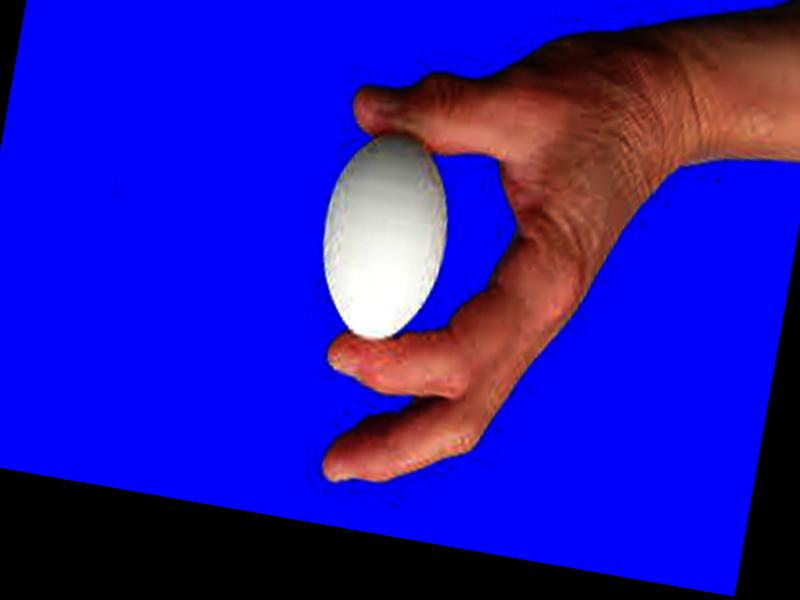Eggs: (306, 124, 463, 353)
